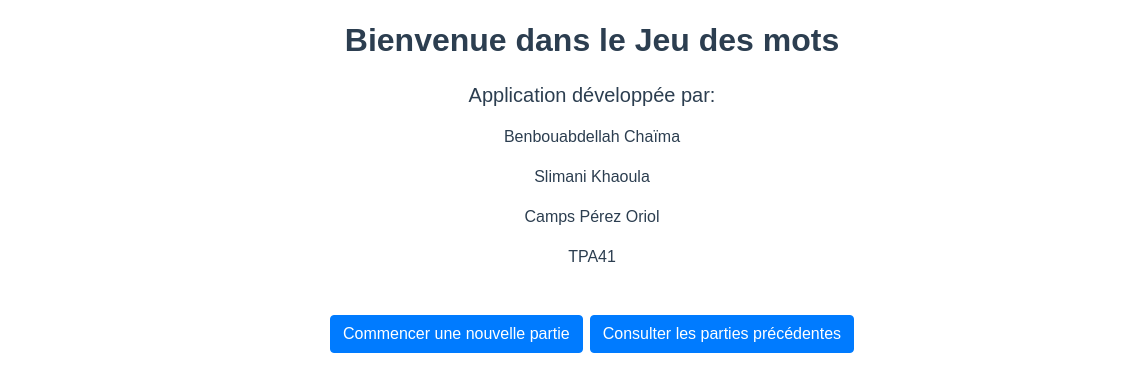
Test: Make sure our todo list app is working well › Lorsque vous accédez aux statistiques, vérifiez bien que vous avez la page des statistiques qui s’affiche
The width and height of the screenshot is (1148, 370).
What coordinates should you click on to do the following:
click the link with id "button-stats"
I would click on:
 (722, 334)
Its box is [590,315,854,353].
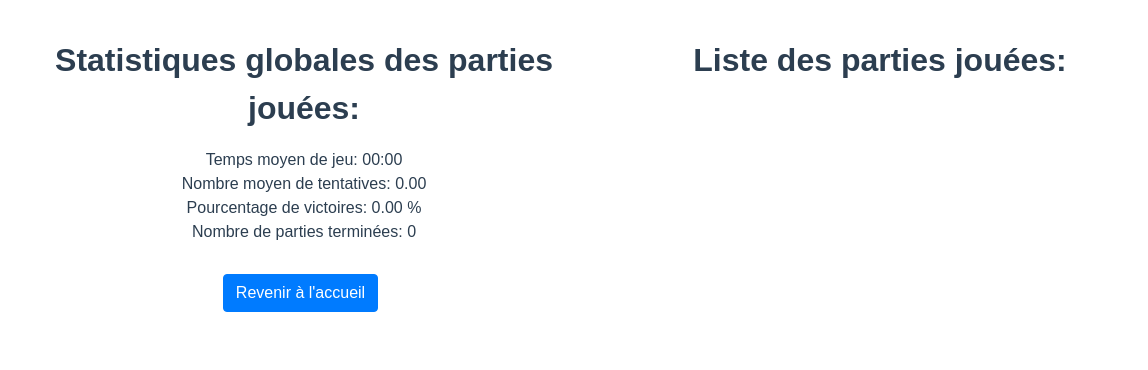
Now the element with id "stats-page" is shown
